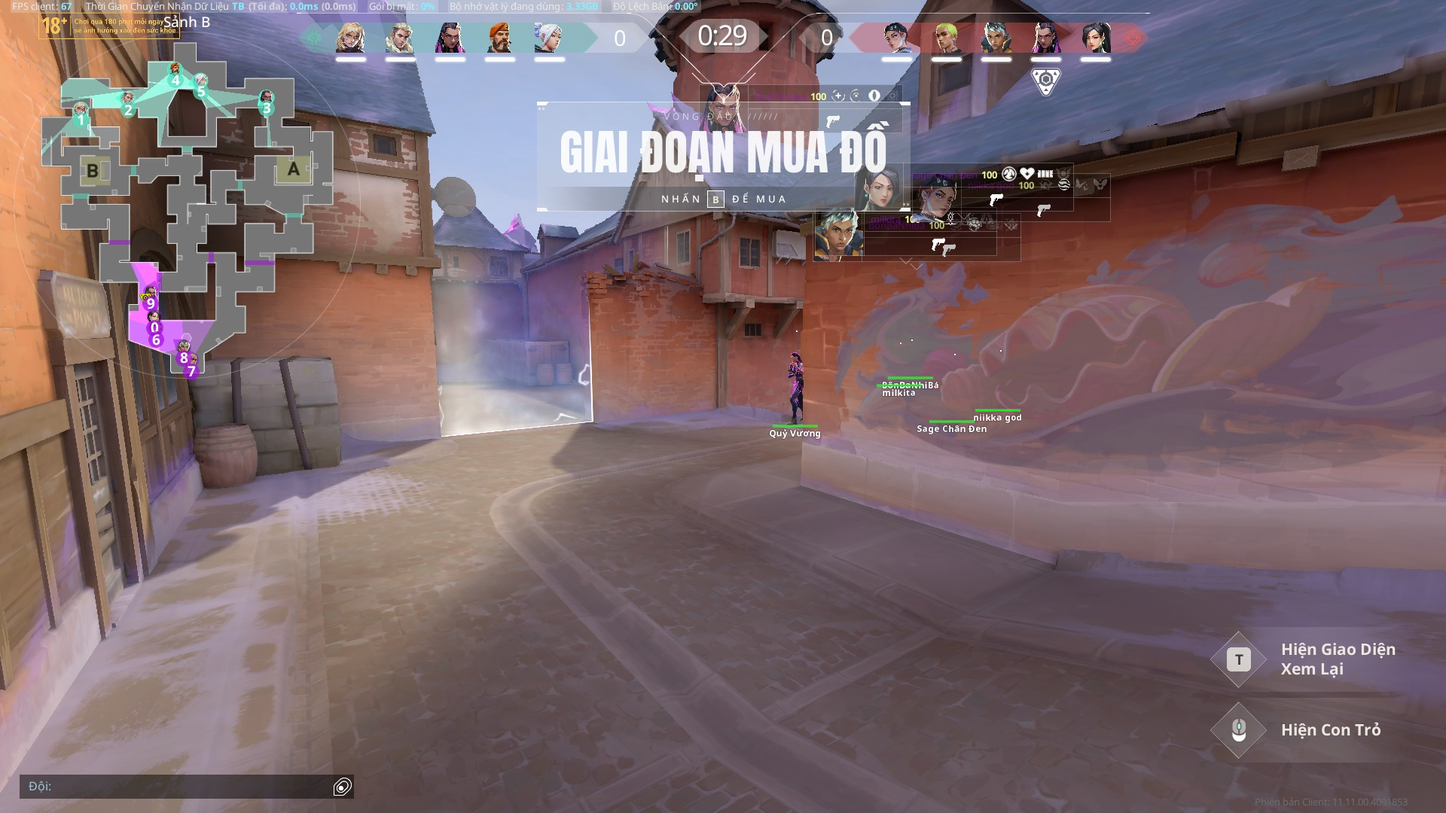body: (789, 361, 805, 383)
head: (788, 351, 801, 363)
